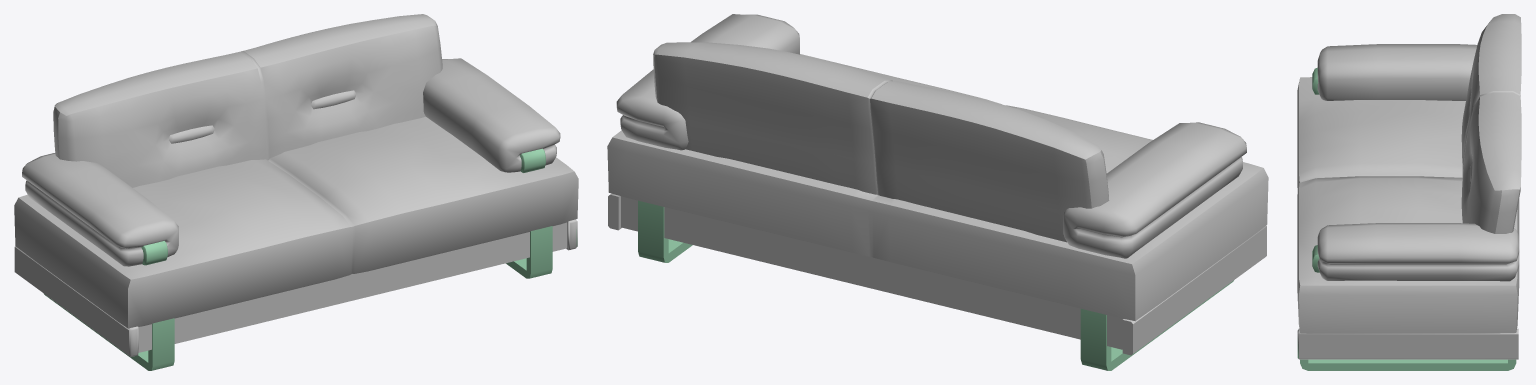
File: GJSF383.FBX
3 renders of one model, left to right at view 1: azimuth 30°, elevation 25°; view 2: azimuth 150°, elevation 25°; view 3: azimuth 270°, elevation 25°, orthographic. The views are drawn at different scales.
Visible parts, largest first — view 1: GJSF383; view 2: GJSF383; view 3: GJSF383.
Boxes of the visible parts, bbox=[...] form: GJSF383: bbox=[14, 14, 578, 370]; GJSF383: bbox=[607, 14, 1268, 370]; GJSF383: bbox=[1297, 14, 1521, 370].
Bounding box in the file's own units: 226 × 101 × 92.95.
